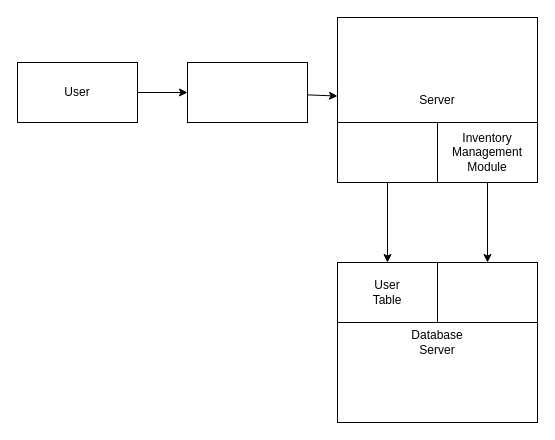
Some shapes in this 555 by 440 pixel diagram are drawn without their labels. Each missing label, with the centre of its shape:
"Authentication Module" belongs at (x=387, y=152).
"Computer Inventory Table" belongs at (x=487, y=292).
"Web Browser" belongs at (x=247, y=92).
